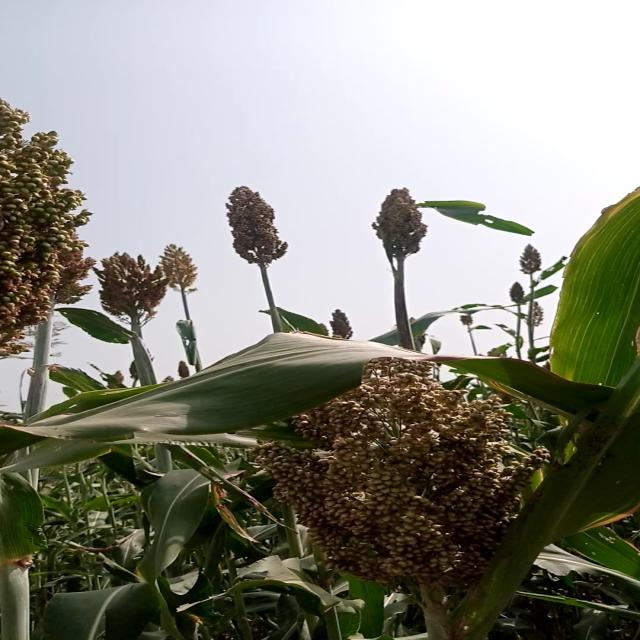UnripeSorghum: (252, 340, 581, 591), (0, 87, 89, 347), (199, 180, 299, 263)
